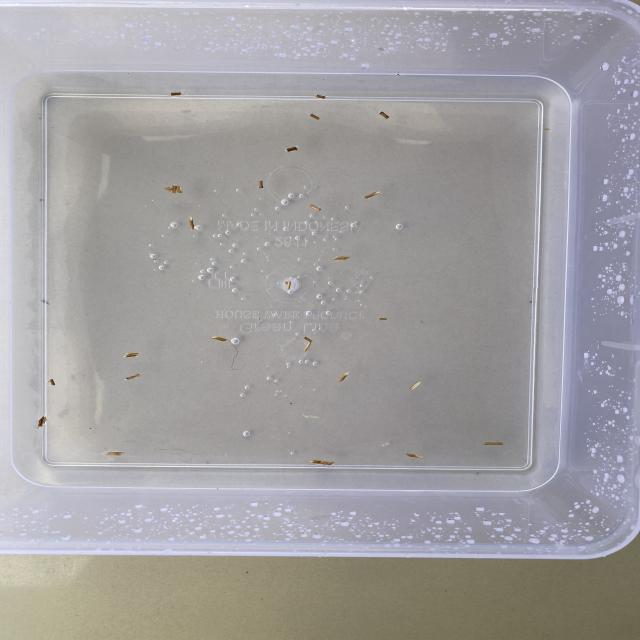Wereng: (161, 184, 187, 197), (333, 370, 356, 384), (360, 189, 384, 201), (308, 459, 335, 469), (301, 332, 313, 353), (122, 374, 147, 383), (332, 254, 356, 263), (209, 335, 231, 344), (308, 201, 322, 215), (34, 414, 46, 430), (401, 452, 431, 458), (165, 89, 183, 98), (308, 113, 324, 123), (408, 380, 424, 390), (483, 441, 505, 448), (282, 144, 301, 152), (186, 218, 196, 232), (381, 110, 391, 120), (48, 377, 58, 387), (317, 94, 329, 102), (102, 452, 126, 456), (121, 354, 142, 358), (285, 280, 291, 292), (377, 317, 393, 321), (258, 179, 264, 189)
